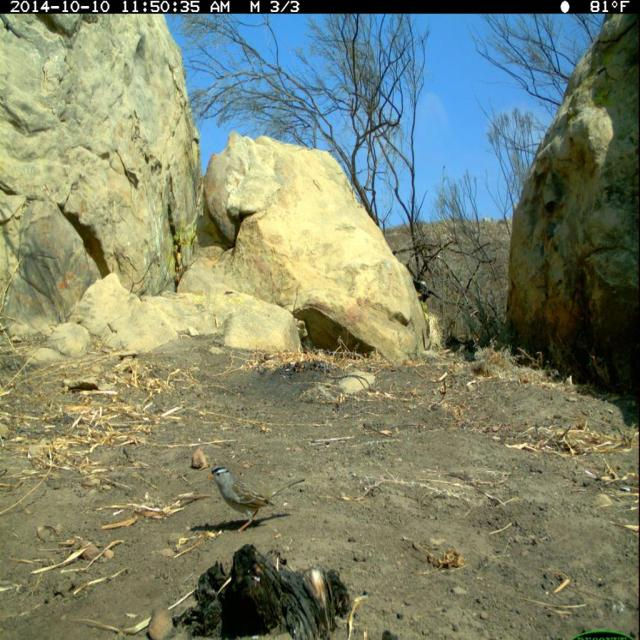bird: (204, 462, 310, 537)
